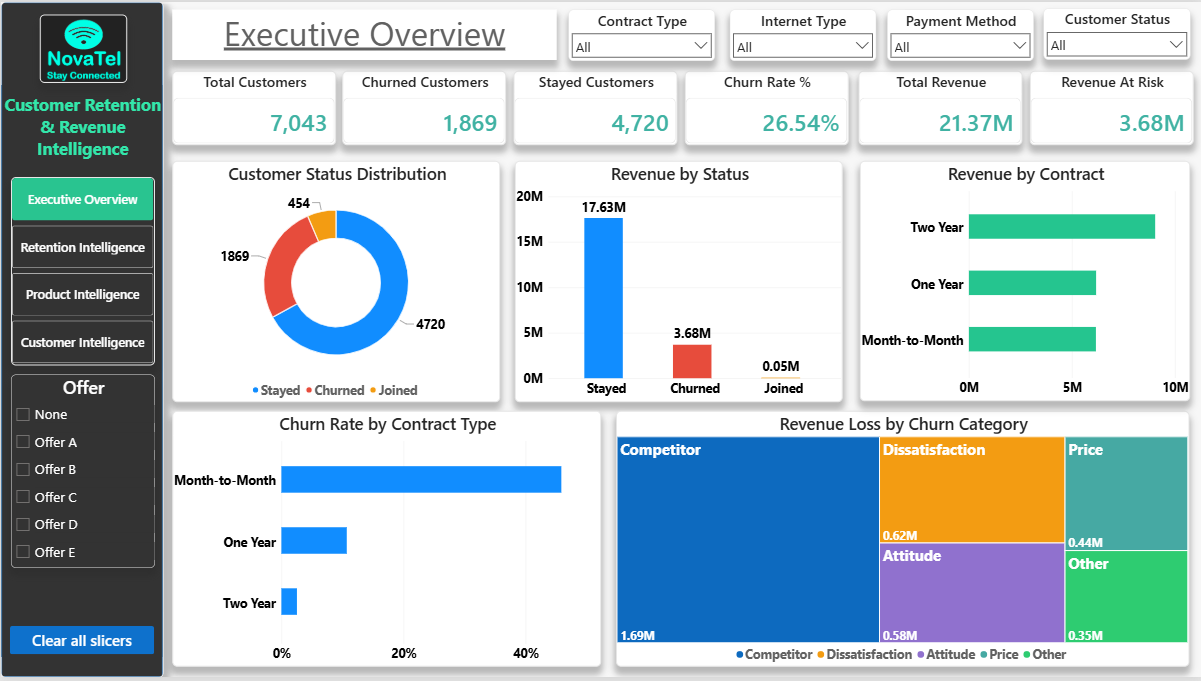

The page's visual inventory and layout, read from the dashboard file:
{"tool":"powerbi","page":{"name":"Executive Overview","canvas":[1920,1080],"ordinal":0},"visuals":[{"type":"shape","box":[0,0,259.6,1080.8],"z":0},{"type":"image","box":[61.5,19.2,140.4,109.6],"z":1000},{"type":"textbox","box":[1.9,146.2,257.7,107.7],"z":2000},{"type":"pageNavigator","box":[15.4,280.8,230.8,301.9],"z":3000},{"type":"cardVisual","title":"Total Customers","fields":{"Data":["CountNonNull(telecom_customer_churn.Customer ID)"]},"box":[273,109,262,119],"z":4000},{"type":"cardVisual","title":"Churned Customers","fields":{"Data":["Customer Churn.Churned Customers"]},"box":[545,109,262,119],"z":5000},{"type":"cardVisual","title":"Stayed Customers","fields":{"Data":["Customer Churn.Stayed Customers"]},"box":[819,109,262,119],"z":6000},{"type":"cardVisual","title":"Churn Rate %","fields":{"Data":["Customer Churn.Churn Rate"]},"box":[1093,109,262,119],"z":7000},{"type":"cardVisual","title":"Total Revenue","fields":{"Data":["Sum(Customer Churn.Total Revenue)"]},"box":[1372,109,262,119],"z":8000},{"type":"cardVisual","title":"Revenue At Risk","fields":{"Data":["Customer Churn.Revenue At Risk"]},"box":[1646,109,262,119],"z":9000},{"type":"donutChart","title":"Customer Status Distribution","fields":{"Category":["Customer Churn.Customer Status"],"Y":["CountNonNull(Customer Churn.Customer ID)"]},"box":[273.1,253.8,525,386.5],"z":10000},{"type":"clusteredColumnChart","title":"Revenue by Status","fields":{"Category":["Customer Churn.Customer Status"],"Y":["Sum(Customer Churn.Total Revenue)"]},"box":[821.2,253.8,525,386.5],"z":11000},{"type":"treemap","title":"Revenue Loss by Churn Category","fields":{"Group":["Customer Churn.Churn Category"],"Values":["Sum(Customer Churn.Total Revenue)"]},"box":[984.6,653.8,917.3,409.6],"z":12000},{"type":"barChart","fields":{"Category":["Customer Churn.Contract"],"Y":["Customer Churn.Churn Rate"]},"box":[273.1,653.8,686.5,409.6],"z":13000},{"type":"clusteredBarChart","title":"Revenue by Contract","fields":{"Category":["Customer Churn.Contract"],"Y":["Sum(Customer Churn.Total Revenue)"]},"box":[1373.1,253.8,528.8,384.6],"z":14000},{"type":"slicer","title":"Contract Type","fields":{"Values":["Customer Churn.Contract"]},"box":[907.7,11.5,234.6,82.7],"z":15000},{"type":"slicer","title":"Internet Type","fields":{"Values":["Customer Churn.Internet Type"]},"box":[1165.4,11.5,234.6,82.7],"z":16000},{"type":"slicer","title":"Payment Method","fields":{"Values":["Customer Churn.Payment Method"]},"box":[1417.3,11.5,234.6,82.7],"z":17000},{"type":"slicer","title":"Customer Status","fields":{"Values":["Customer Churn.Customer Status"]},"box":[1667.3,9.6,235,82],"z":18000},{"type":"slicer","title":"Offer","fields":{"Values":["Customer Churn.Offer"]},"box":[15.4,596.2,230.8,309.6],"z":19000},{"type":"textbox","box":[273.1,11.5,615.4,80.8],"z":20000},{"type":"actionButton","title":"Reset","box":[14.6,997.9,231.2,45.8],"z":21000}]}

Visuals, with their boxes in screenshot pixels (x1, y1, x2, y2), scaled from the page's 1920x1080 canvas onto the 1201x681 screenshot:
shape: select_region(0, 0, 162, 680)
image: select_region(38, 12, 126, 81)
textbox: select_region(1, 92, 162, 160)
pageNavigator: select_region(10, 177, 154, 367)
"Total Customers" cardVisual: select_region(171, 69, 335, 144)
"Churned Customers" cardVisual: select_region(341, 69, 505, 144)
"Stayed Customers" cardVisual: select_region(512, 69, 676, 144)
"Churn Rate %" cardVisual: select_region(684, 69, 848, 144)
"Total Revenue" cardVisual: select_region(858, 69, 1022, 144)
"Revenue At Risk" cardVisual: select_region(1030, 69, 1193, 144)
"Customer Status Distribution" donutChart: select_region(171, 160, 499, 404)
"Revenue by Status" clusteredColumnChart: select_region(514, 160, 842, 404)
"Revenue Loss by Churn Category" treemap: select_region(616, 412, 1190, 671)
barChart - Customer Churn.Contract x Customer Churn.Churn Rate: select_region(171, 412, 600, 671)
"Revenue by Contract" clusteredBarChart: select_region(859, 160, 1190, 403)
"Contract Type" slicer: select_region(568, 7, 715, 59)
"Internet Type" slicer: select_region(729, 7, 876, 59)
"Payment Method" slicer: select_region(887, 7, 1033, 59)
"Customer Status" slicer: select_region(1043, 6, 1190, 58)
"Offer" slicer: select_region(10, 376, 154, 571)
textbox: select_region(171, 7, 556, 58)
"Reset" actionButton: select_region(9, 629, 154, 658)
